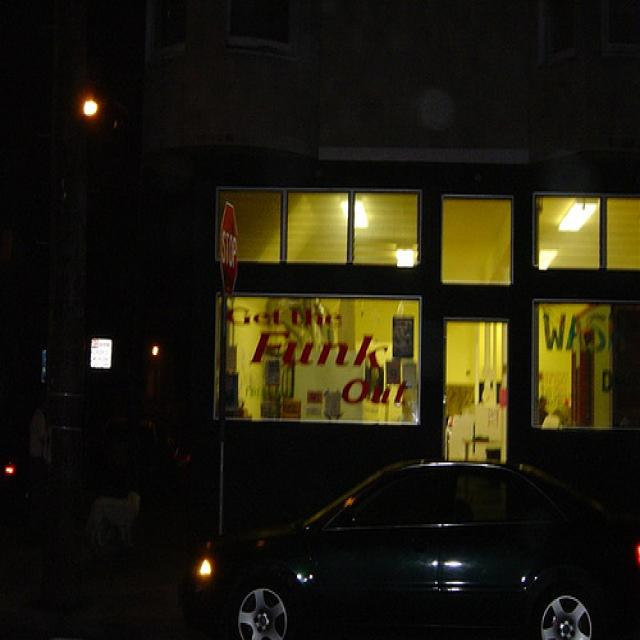Car: (255, 425, 636, 640)
